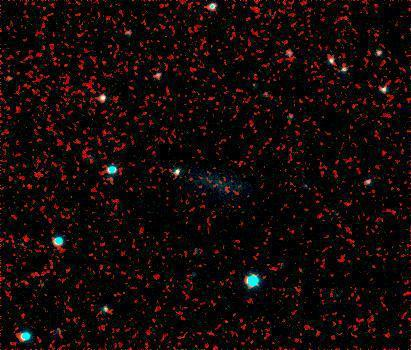star: (90, 295, 120, 325)
